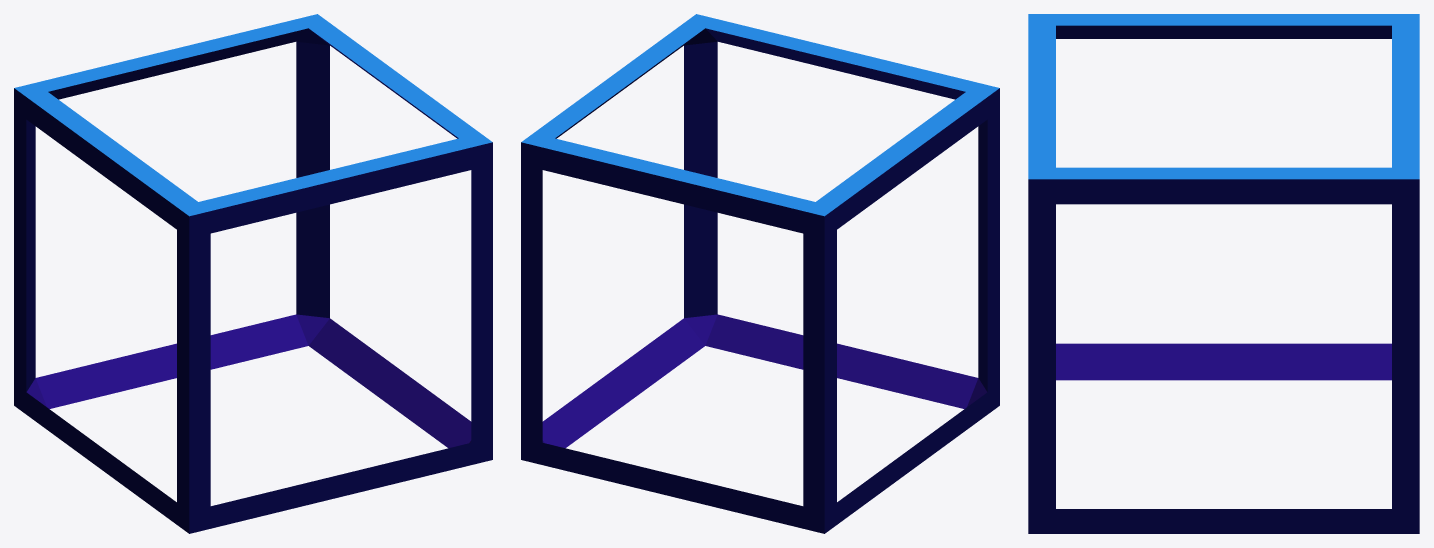
Rendered from 3d_Health_Cube-Active.fbx.
The picture shows the model from 3 angles, left to right: view 1: azimuth 30°, elevation 25°; view 2: azimuth 150°, elevation 25°; view 3: azimuth 270°, elevation 25°; orthographic projection. The views are drawn at different scales.
Parts seen in each view (by area): view 1: GEO_Health-Cube_Active; view 2: GEO_Health-Cube_Active; view 3: GEO_Health-Cube_Active.
Part boxes in pixels (box(x1,y1,x2,y2)): GEO_Health-Cube_Active: box(14, 14, 492, 533); GEO_Health-Cube_Active: box(521, 14, 999, 533); GEO_Health-Cube_Active: box(1028, 14, 1419, 533).
Bounding box in the file's own units: 0.75 × 0.75 × 0.75.
